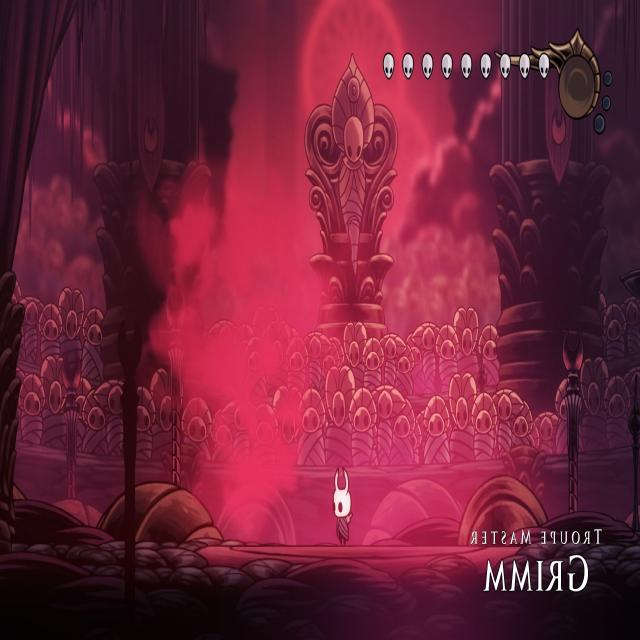Player: (330, 463, 356, 547)
